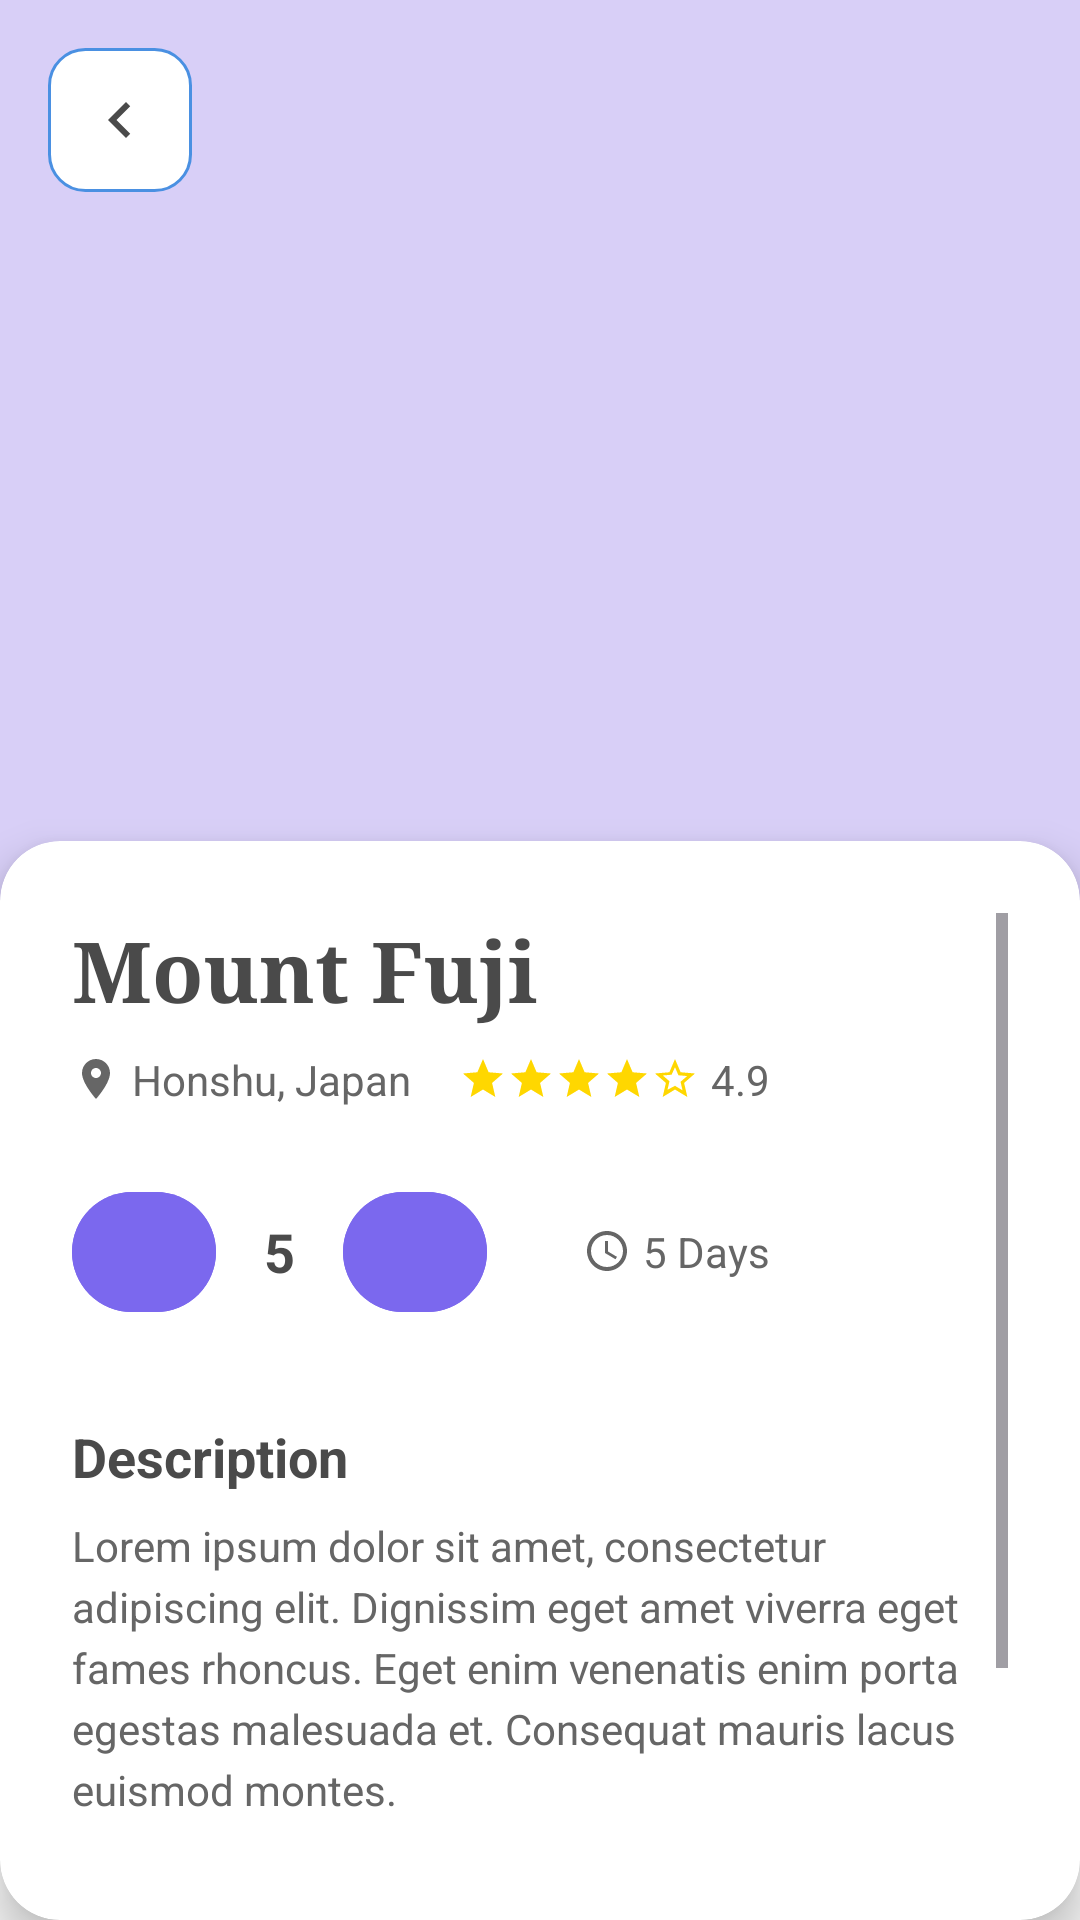

Locate icon controls on the screen. Image size 1080 × 1920, boxes as bbox=[x1, y1, x2, y2].
Back: bbox=[48, 48, 192, 192]
Clock: bbox=[587, 1231, 627, 1271]
Location: bbox=[82, 1059, 110, 1099]
star: bbox=[463, 1059, 503, 1097], bbox=[511, 1059, 551, 1097], bbox=[559, 1059, 599, 1097], bbox=[607, 1059, 647, 1097]
